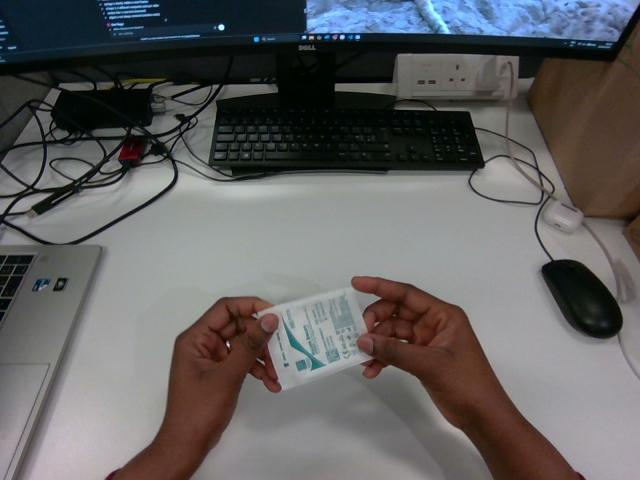gauze: (257, 288, 370, 389)
